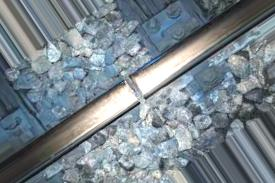tracks_fault: (114, 66, 152, 116)
